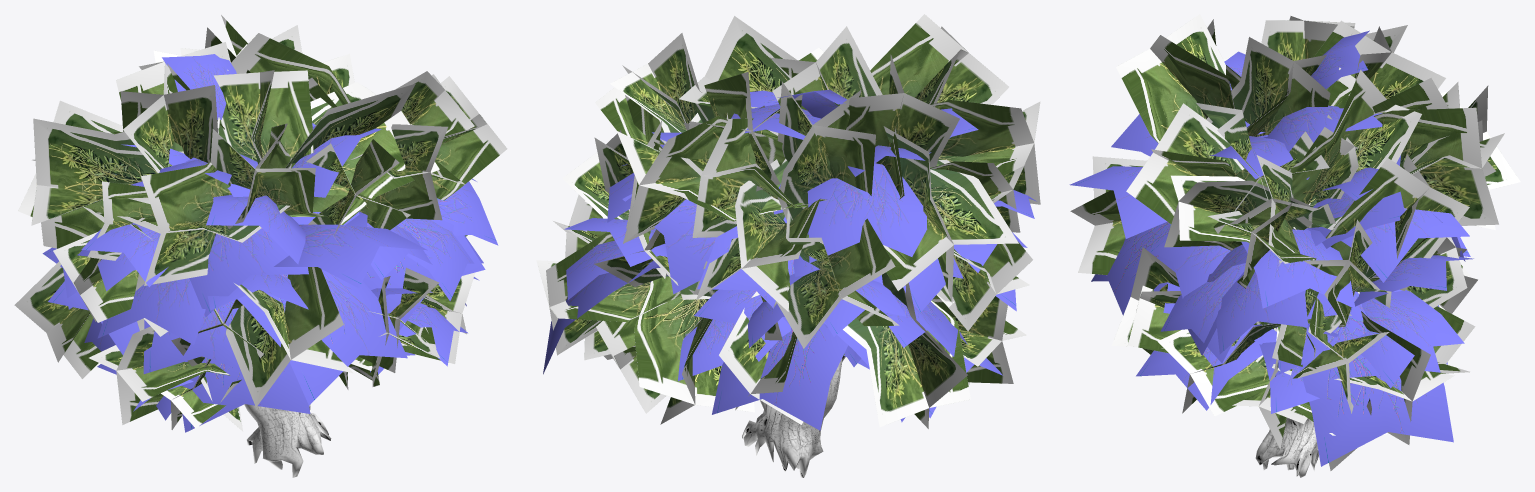
File: OliveTree00c.fbx
3 views of the same model, side by side, from view 1: azimuth 30°, elevation 25°; view 2: azimuth 150°, elevation 25°; view 3: azimuth 270°, elevation 25° (orthographic). The views are drawn at different scales.
Parts seen in each view (by area): view 1: LeavesPlaneB036, LeavesPlaneB029, LeavesPlaneB031, LeavesPlaneB032, LeavesPlaneB033, LeavesPlaneB037, LeavesPlane057, LeavesPlaneB030, LeavesPlane049, LeavesPlaneB015, LeavesPlaneB027, LeavesPlane037 (+32 smaller); view 2: LeavesPlaneB036, LeavesPlaneB039, LeavesPlaneB012, LeavesPlaneB042, LeavesPlaneB041, LeavesPlaneB040, LeavesPlane038, LeavesPlaneB030, LeavesPlaneB043, LeavesPlane054, LeavesPlaneB031, LeavesPlaneB037 (+35 smaller); view 3: LeavesPlane058, LeavesPlaneB030, LeavesPlaneB042, LeavesPlaneB013, LeavesPlaneB017, LeavesPlaneB033, LeavesPlaneB015, LeavesPlaneB005, LeavesPlane005, LeavesPlaneB023, LeavesPlane011, LeavesPlaneB029 (+35 smaller).
Part boxes in pixels (x1,y1,x2,y2): LeavesPlaneB036: [31, 118, 183, 248]; LeavesPlaneB029: [226, 267, 353, 407]; LeavesPlaneB031: [117, 162, 290, 285]; LeavesPlaneB032: [285, 82, 439, 224]; LeavesPlaneB033: [213, 70, 313, 163]; LeavesPlaneB037: [120, 63, 217, 172]; LeavesPlane057: [237, 269, 407, 405]; LeavesPlaneB030: [210, 123, 326, 228]; LeavesPlane049: [274, 224, 427, 288]; LeavesPlaneB015: [350, 124, 464, 220]; LeavesPlaneB027: [89, 326, 230, 424]; LeavesPlane037: [189, 228, 308, 317]; LeavesPlaneB036: [883, 126, 1018, 303]; LeavesPlaneB039: [843, 272, 970, 428]; LeavesPlaneB012: [634, 276, 754, 424]; LeavesPlaneB042: [617, 116, 804, 243]; LeavesPlaneB041: [773, 209, 899, 348]; LeavesPlaneB040: [777, 81, 875, 237]; LeavesPlane038: [807, 163, 927, 263]; LeavesPlaneB030: [870, 14, 1008, 106]; LeavesPlaneB043: [696, 158, 826, 311]; LeavesPlane054: [712, 323, 848, 430]; LeavesPlaneB031: [930, 100, 1040, 204]; LeavesPlaneB037: [846, 54, 959, 199]; LeavesPlane058: [1299, 289, 1453, 466]; LeavesPlaneB030: [1116, 14, 1234, 143]; LeavesPlaneB042: [1374, 107, 1504, 225]; LeavesPlaneB013: [1257, 67, 1421, 230]; LeavesPlaneB017: [1126, 103, 1244, 223]; LeavesPlaneB033: [1206, 37, 1330, 136]; LeavesPlaneB015: [1164, 175, 1310, 250]; LeavesPlaneB005: [1326, 154, 1469, 291]; LeavesPlane005: [1357, 290, 1464, 388]; LeavesPlaneB023: [1157, 323, 1280, 416]; LeavesPlane011: [1241, 229, 1355, 308]; LeavesPlaneB029: [1070, 156, 1146, 275].
Bounding box in the file's own units: 1413 × 1286 × 1253.
